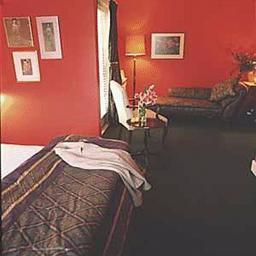Cama: (3, 138, 137, 253)
